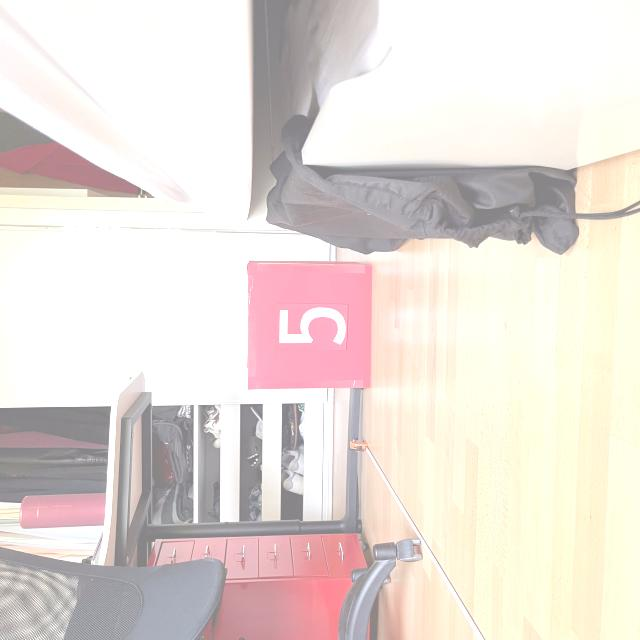box: (242, 256, 376, 391)
